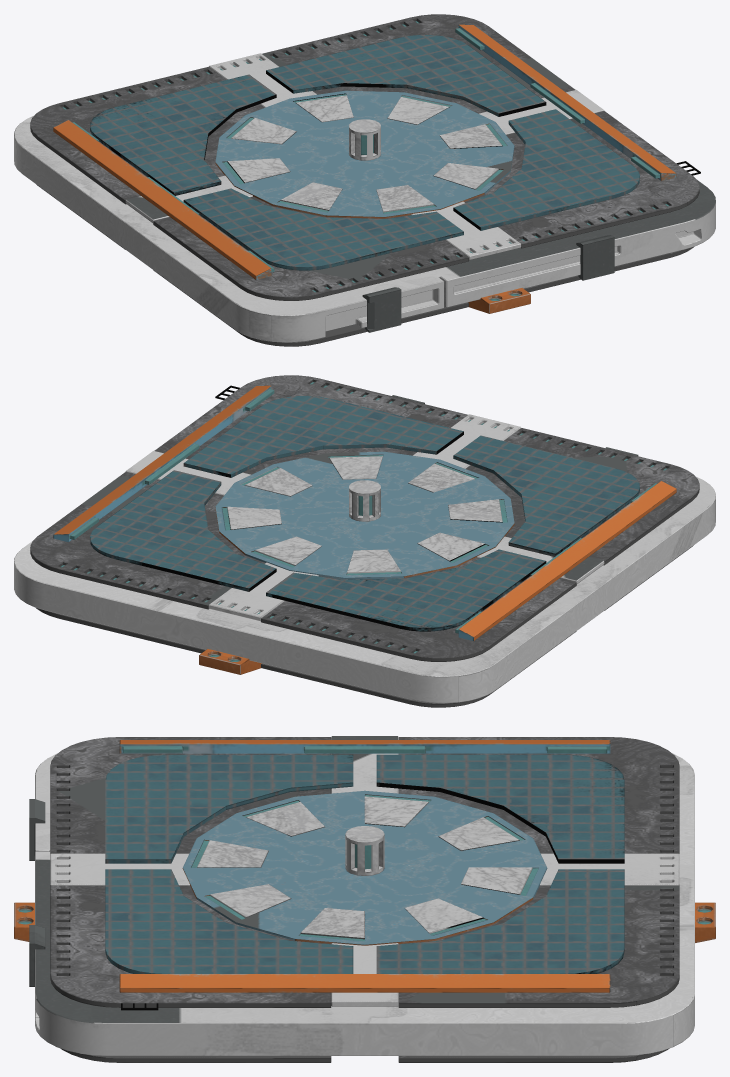
Rendered from sci-_fi_platform.glb.
The picture shows the model from 3 angles, top to bottom: view 1: azimuth 30°, elevation 25°; view 2: azimuth 150°, elevation 25°; view 3: azimuth 270°, elevation 25°; orthographic projection. The views are drawn at different scales.
Visible parts, largest first — view 1: tiles, mainbase, lower.001, topgol, sidelight, fronts, lights; view 2: tiles, mainbase, lower.001, topgol, sidelight, lights; view 3: tiles, mainbase, topgol, lower.001, sidelight, lights, fronts.
Part boxes in pixels (x1,y1,x2,y2): tiles: [90, 34, 639, 270]; mainbase: [14, 53, 715, 342]; lower.001: [30, 14, 699, 346]; topgol: [215, 90, 514, 218]; sidelight: [53, 24, 676, 279]; fronts: [362, 235, 614, 332]; lights: [468, 288, 530, 313]; tiles: [90, 395, 639, 631]; mainbase: [14, 414, 715, 703]; lower.001: [30, 375, 699, 707]; topgol: [215, 451, 514, 579]; sidelight: [53, 385, 676, 640]; lights: [199, 649, 261, 674]; tiles: [105, 754, 624, 973]; mainbase: [35, 736, 694, 1055]; topgol: [182, 790, 547, 945]; lower.001: [50, 737, 679, 1062]; sidelight: [119, 740, 610, 992]; lights: [14, 902, 715, 942]; fronts: [29, 799, 45, 986].
Bounding box in the file's own units: 111 × 20.24 × 118.
1 material, 1 textured.
